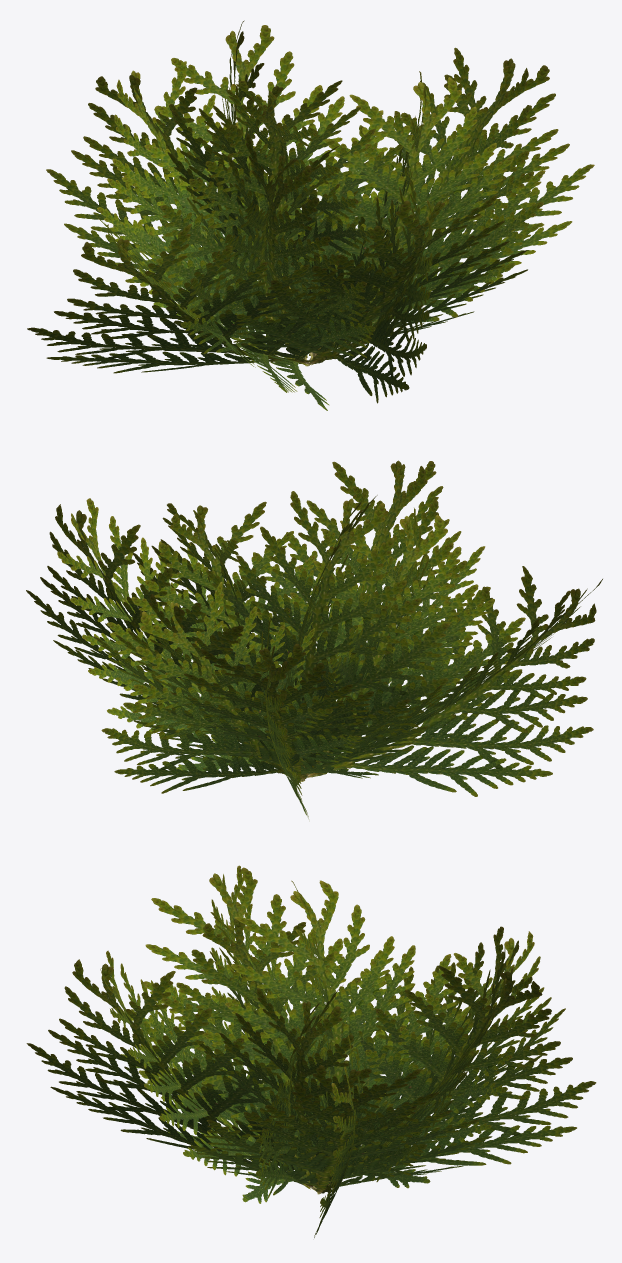
File: small_bush.glb
3 views of the same model, one above another, from view 1: azimuth 30°, elevation 25°; view 2: azimuth 150°, elevation 25°; view 3: azimuth 270°, elevation 25° (orthographic). The views are drawn at different scales.
Visible parts, largest first — view 1: SMALL_BUSH; view 2: SMALL_BUSH; view 3: SMALL_BUSH.
Boxes of the visible parts, bbox=[...] form: SMALL_BUSH: bbox=[27, 20, 594, 410]; SMALL_BUSH: bbox=[26, 460, 602, 818]; SMALL_BUSH: bbox=[26, 865, 596, 1237].
Bounding box in the file's own units: 2 × 1 × 1.8.
1 material, 1 textured.
